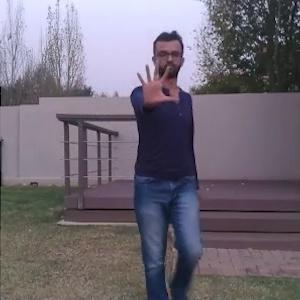follow_hand: (133, 56, 180, 108)
